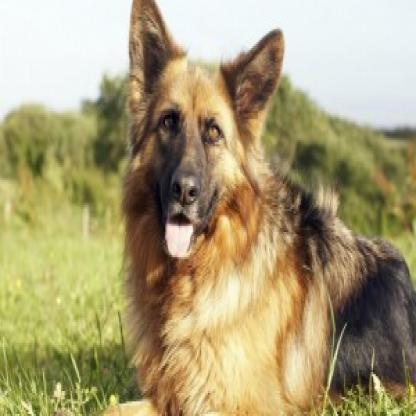german shepherd: (122, 6, 416, 416)
